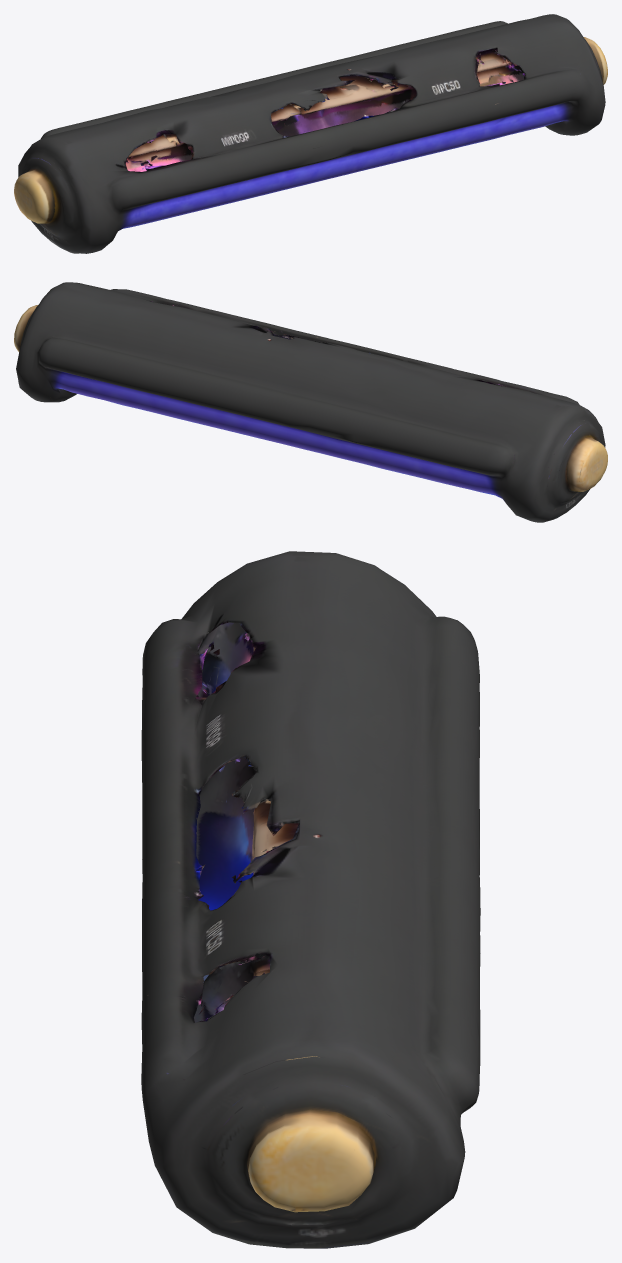
Rendered from Meshy_AI_Ultraviolet_Glow_Tube_0108121339_texture.fbx.
3 renders of one model, top to bottom at view 1: azimuth 30°, elevation 25°; view 2: azimuth 150°, elevation 25°; view 3: azimuth 270°, elevation 25°, orthographic. The views are drawn at different scales.
Visible parts, largest first — view 1: Mesh0; view 2: Mesh0; view 3: Mesh0.
Part boxes in pixels (x1,y1,x2,y2): Mesh0: [14, 14, 607, 253]; Mesh0: [14, 282, 607, 522]; Mesh0: [141, 551, 480, 1248].
Bounding box in the file's own units: 192 × 33.68 × 49.47.
Materials: 1 (1 with a texture image).
